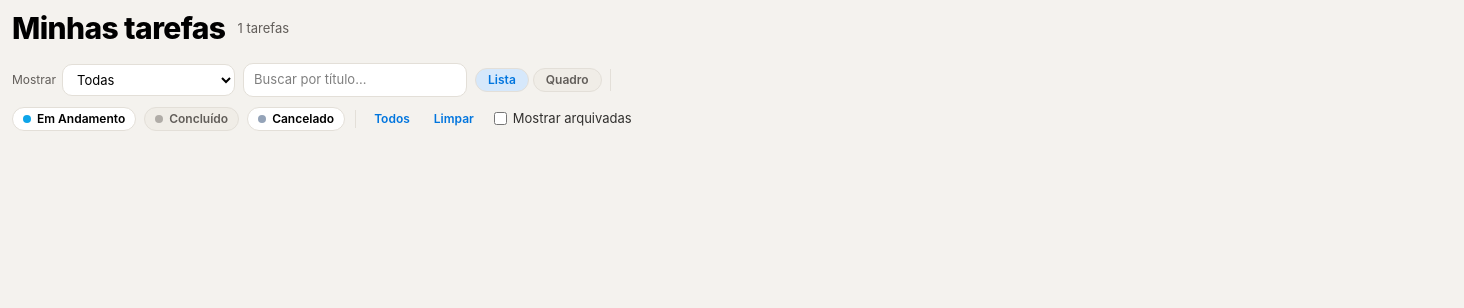
Test: minhas-tarefas -- tarefa de outro quadro (fatia 5b-5b) › ⚠️ o card de quadro avulso e DESENHADO no kanban, e nao so contado
This screenshot has width=1464, height=308.
Click the button "Quadro" at (567, 80), box x1=533 y1=68 x2=602 y2=92
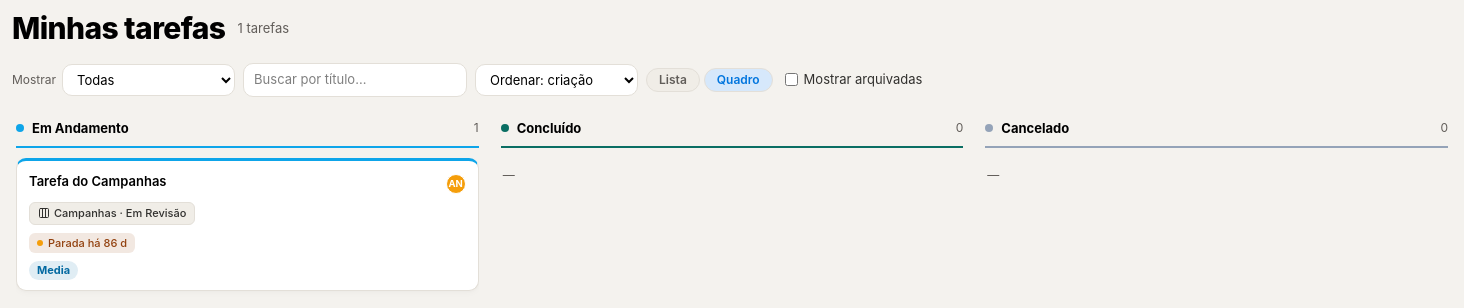
Check: the text "Tarefa do Campanhas" is shown, box x1=29 y1=173 x2=166 y2=189
